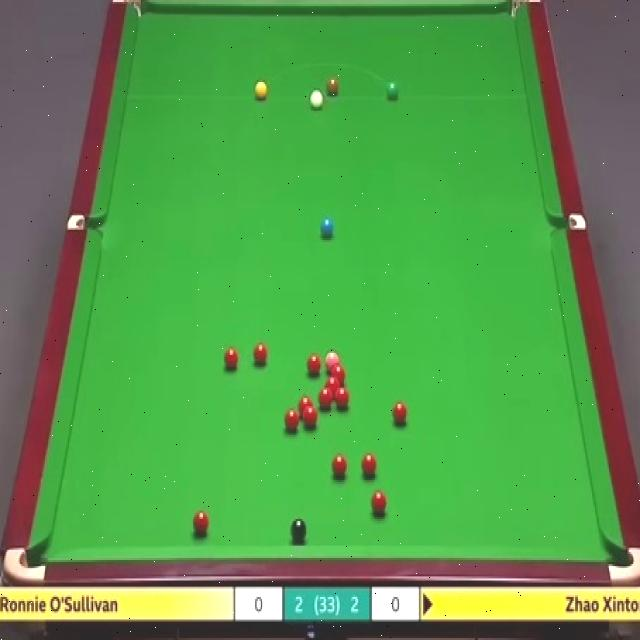black-ball: (290, 515, 307, 543)
blue-ball: (319, 216, 335, 240)
brown-ball: (326, 78, 339, 96)
green-ball: (386, 81, 398, 100)
pink-ball: (325, 351, 340, 368)
red-ball: (370, 490, 387, 517), (192, 511, 210, 536), (306, 352, 323, 378), (392, 402, 409, 425), (303, 405, 319, 428), (361, 454, 377, 476), (332, 455, 348, 477), (253, 342, 267, 366), (224, 346, 238, 370), (317, 388, 334, 407), (335, 388, 350, 408), (285, 409, 299, 430), (323, 376, 342, 390), (298, 394, 312, 412), (330, 366, 348, 378)
white-ball: (308, 88, 324, 109)
yellow-ball: (254, 79, 269, 101)
